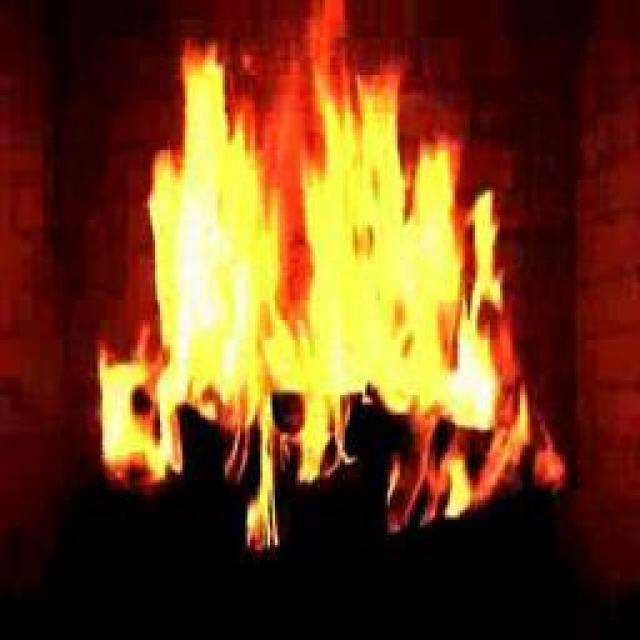Fire: (137, 54, 520, 472)
